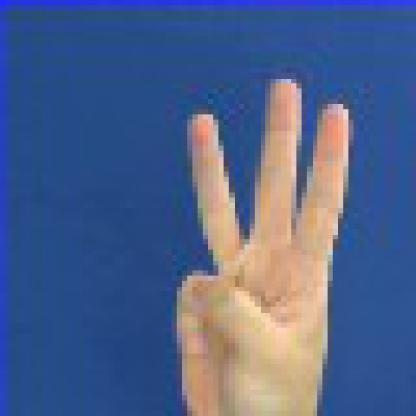three: (161, 67, 364, 410)
